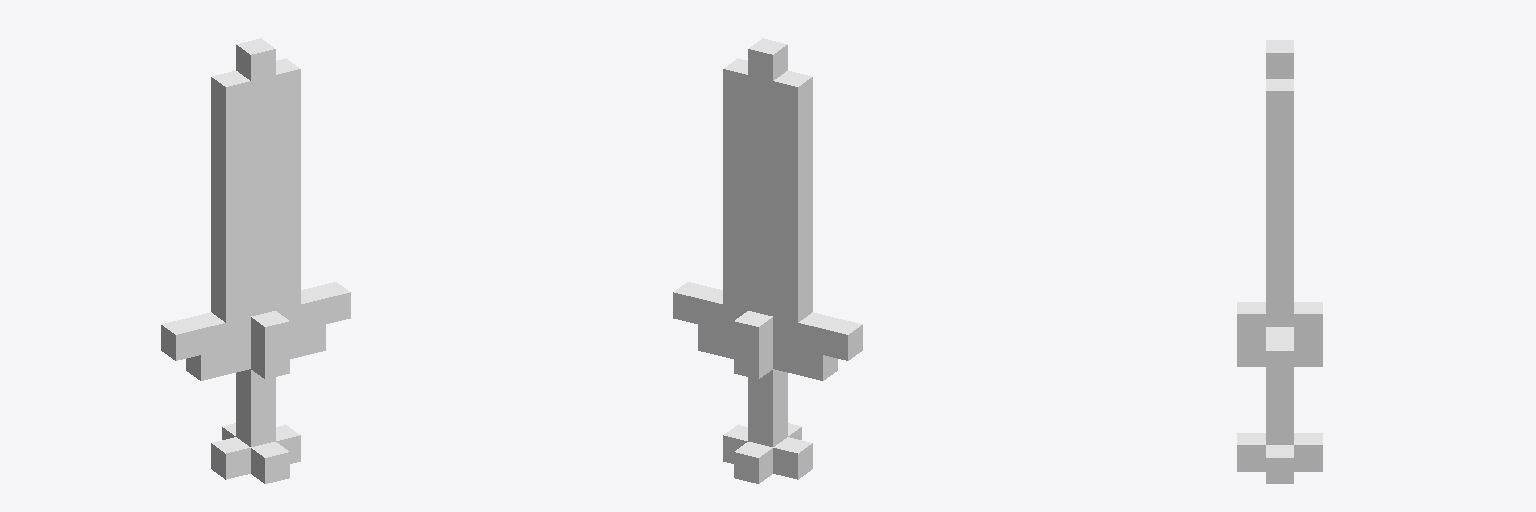
Rendered from sword.obj.
3 renders of one model, left to right at view 1: azimuth 30°, elevation 25°; view 2: azimuth 150°, elevation 25°; view 3: azimuth 270°, elevation 25°, orthographic.
Parts seen in each view (by area): view 1: sword; view 2: sword; view 3: sword.
Boxes of the visible parts, <box> form: sword: <box>161,38,350,483</box>; sword: <box>673,38,862,483</box>; sword: <box>1237,40,1322,483</box>.
Size of the model in its own units: 3.61 by 8.25 by 1.55.